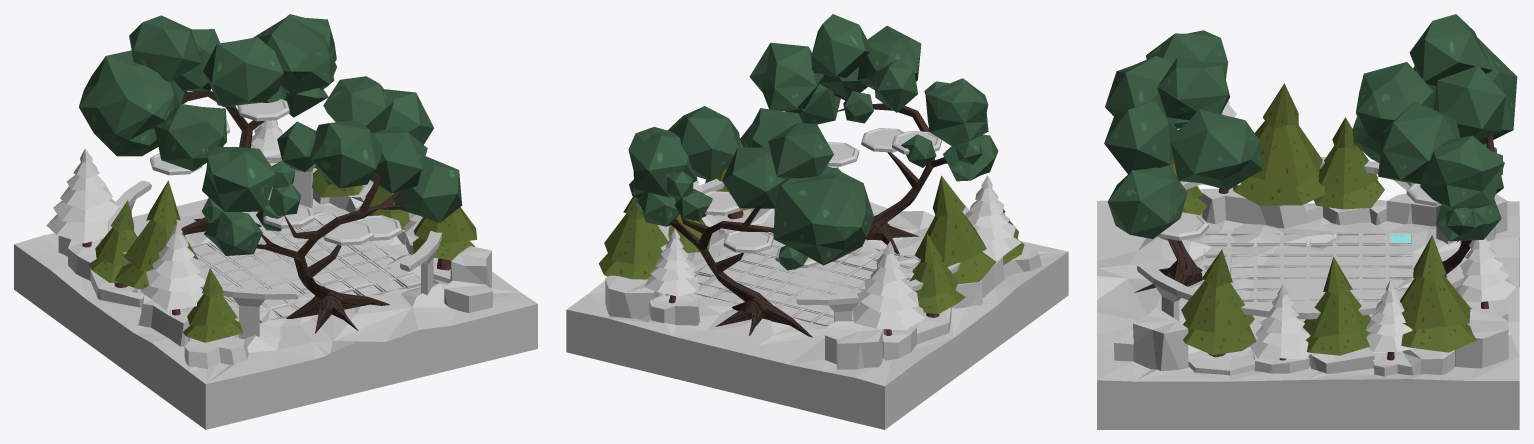
3 renders of one model, left to right at view 1: azimuth 30°, elevation 25°; view 2: azimuth 150°, elevation 25°; view 3: azimuth 270°, elevation 25°, orthographic. The views are drawn at different scales.
Visible parts, largest first — view 1: base, Icosphere.001, Icosphere.014, Plane.007, tree.002, Circle.019, lot.004, lot.005, Plane.003, lesss.001, lesss, lesss.002 (+11 smaller); view 2: base, Icosphere.001, Icosphere.014, Plane.007, lesss.001, lot.004, tree.003, lesss.006, Plane.003, lot.005, tree.002, small_tree (+8 smaller); view 3: base, Icosphere.001, Icosphere.014, Plane.007, lesss.001, lesss.006, lesss.002, lesss.007, small_tree, Plane.003, Circle.019, lot.001 (+8 smaller).
Part boxes in pixels (x1,y1,x2,y2): base: (14, 198, 537, 429); Icosphere.001: (79, 14, 336, 170); Icosphere.014: (201, 76, 462, 255); Plane.007: (58, 168, 493, 368); tree.002: (256, 172, 407, 333); Circle.019: (108, 153, 441, 338); lot.004: (46, 148, 119, 247); lot.005: (140, 222, 206, 315); Plane.003: (191, 226, 393, 322); lesss.001: (114, 180, 198, 289); lesss: (183, 268, 243, 342); lesss.002: (412, 207, 476, 270); base: (566, 201, 1068, 429); Icosphere.001: (628, 106, 874, 270); Icosphere.014: (749, 14, 998, 181); Plane.007: (605, 208, 1041, 369); lesss.001: (912, 175, 996, 284); lot.004: (852, 241, 924, 335); tree.003: (671, 186, 812, 337); lesss.006: (599, 196, 668, 279); Plane.003: (704, 235, 920, 326); lot.005: (965, 175, 1021, 261); tree.002: (834, 92, 947, 254); small_tree: (909, 233, 965, 317); base: (1097, 200, 1519, 429); Icosphere.001: (1352, 14, 1517, 241); Icosphere.014: (1104, 30, 1262, 238); Plane.007: (1114, 188, 1508, 376); lesss.001: (1233, 83, 1325, 205); lesss.006: (1400, 235, 1476, 352); lesss.002: (1181, 249, 1256, 357); lesss.007: (1303, 256, 1371, 355); small_tree: (1313, 117, 1384, 209); Plane.003: (1203, 244, 1412, 333); Circle.019: (1137, 157, 1464, 321); lot.001: (1250, 284, 1310, 360).
Size of what is drawn, in the model's own units: 31.99 by 24.74 by 31.99.
